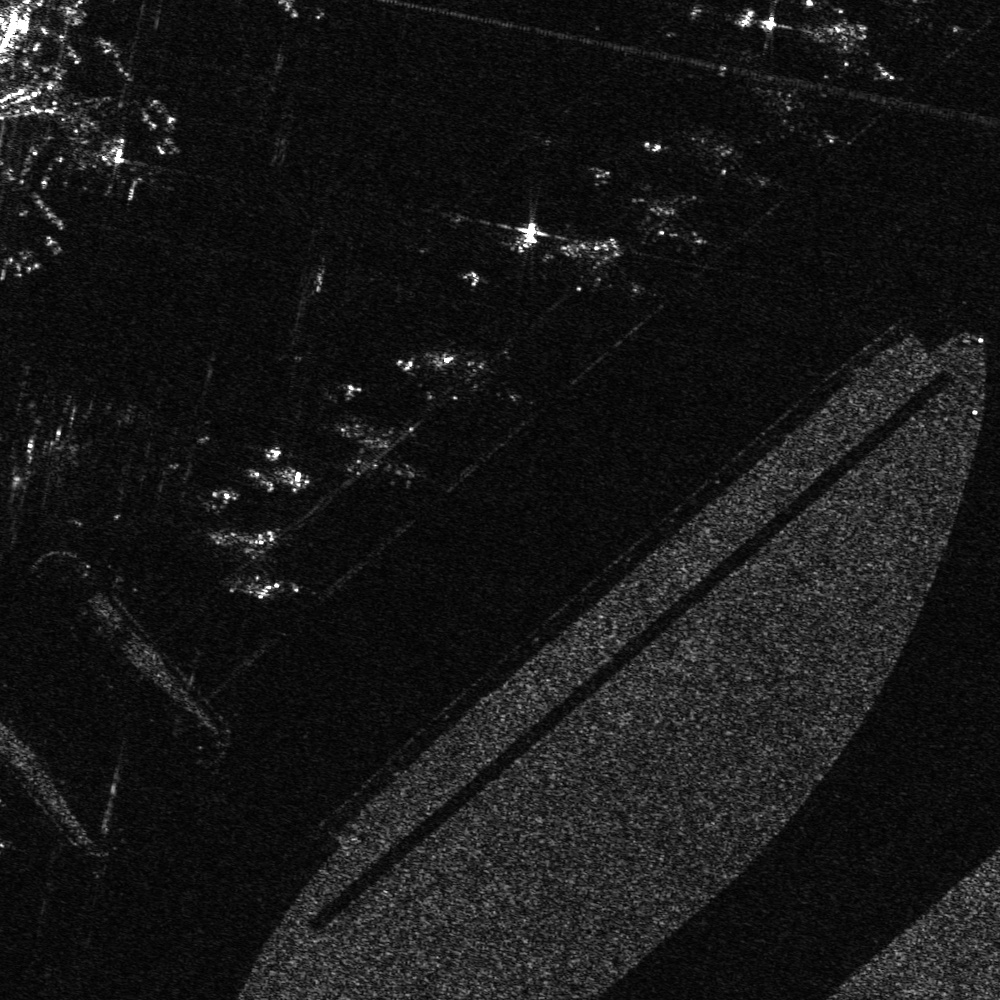Boeing737: (21, 93, 134, 176), (335, 402, 431, 488), (816, 13, 905, 90), (759, 73, 842, 155), (433, 343, 531, 411), (559, 233, 652, 301), (695, 127, 775, 193), (637, 191, 711, 252)
